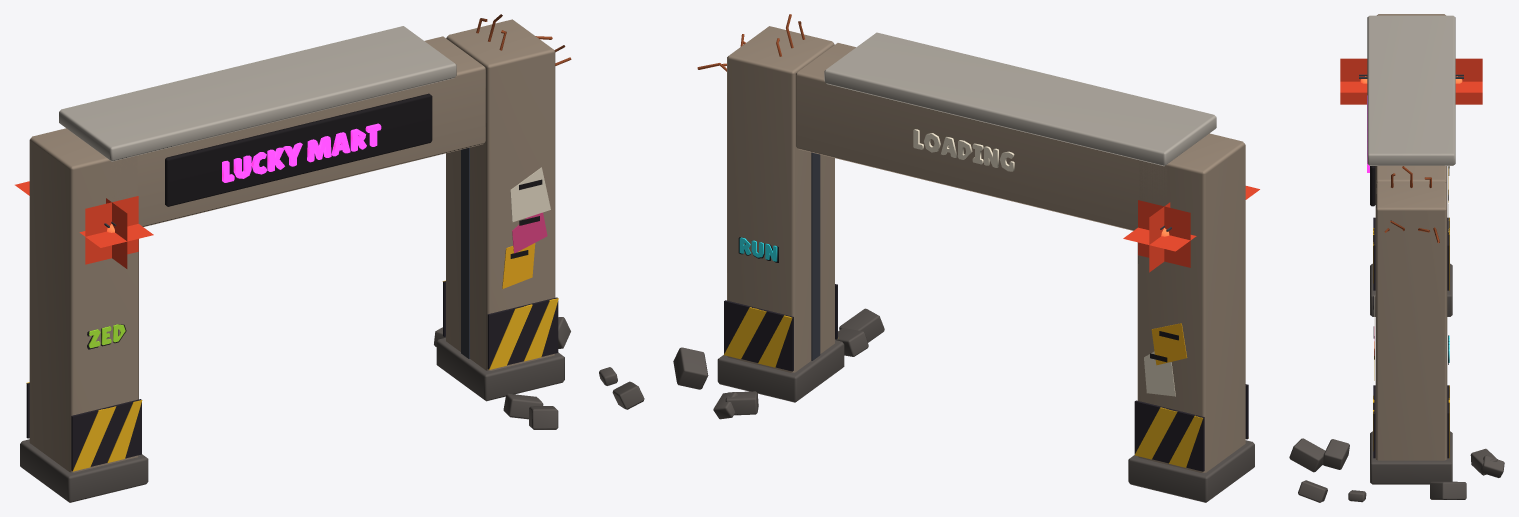
File: city_gate_shutter_frame.glb
The picture shows the model from 3 angles, left to right: view 1: azimuth 30°, elevation 25°; view 2: azimuth 150°, elevation 25°; view 3: azimuth 270°, elevation 25°; orthographic projection. The views are drawn at different scales.
Parts seen in each view (by area): view 1: Frame; view 2: Frame; view 3: Frame.
Boxes of the visible parts, box(x1,y1,x2,y2) form: Frame: box(15, 14, 644, 502); Frame: box(673, 14, 1259, 502); Frame: box(1289, 14, 1504, 502).
Size of the model in its own units: 9.44 by 6.18 by 3.91.
